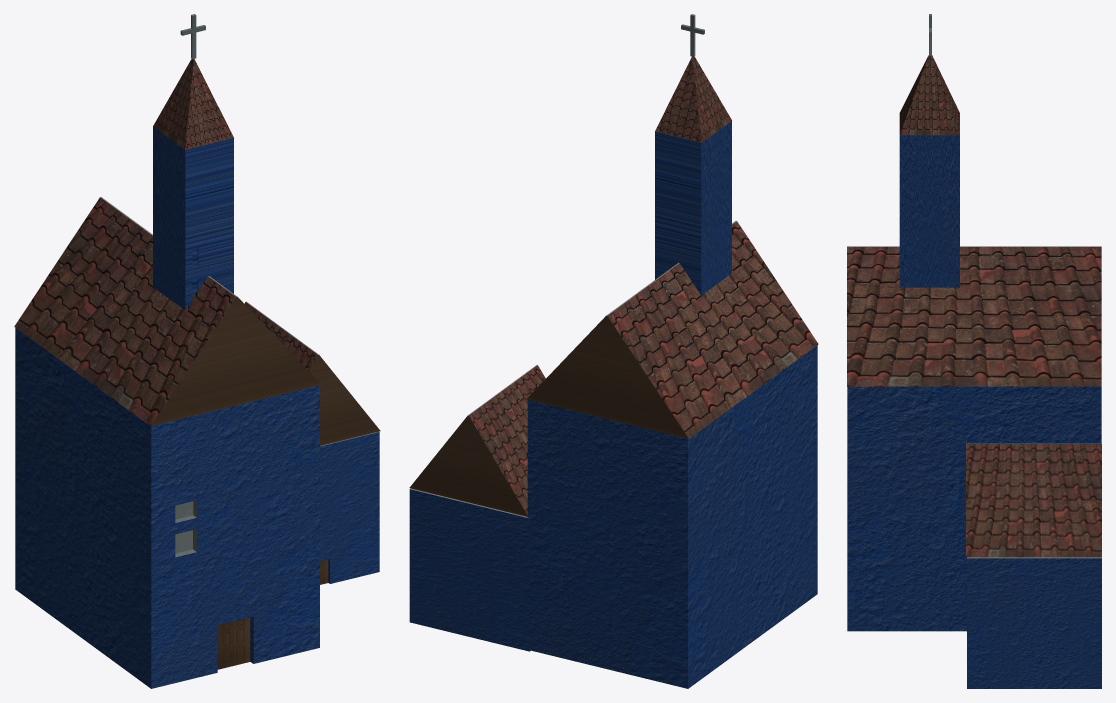
Rendered from iglesia.obj.
3 renders of one model, left to right at view 1: azimuth 30°, elevation 25°; view 2: azimuth 150°, elevation 25°; view 3: azimuth 270°, elevation 25°, orthographic. The views are drawn at different scales.
Visible parts, largest first — view 1: pCube10; view 2: pCube10; view 3: pCube10.
Part boxes in pixels (x1,y1,x2,y2): pCube10: (14, 14, 380, 688); pCube10: (409, 14, 818, 688); pCube10: (847, 14, 1101, 688).
Size of the model in its own units: 178 by 360 by 143.
Materials: 5 (4 with a texture image).
